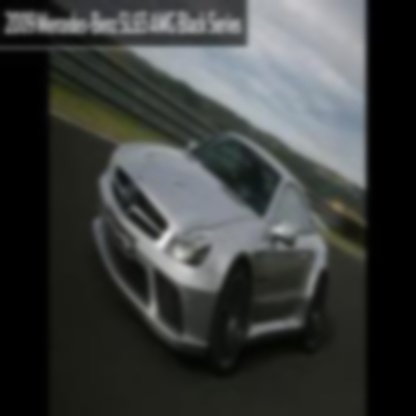Vehicle: (90, 126, 327, 383)
